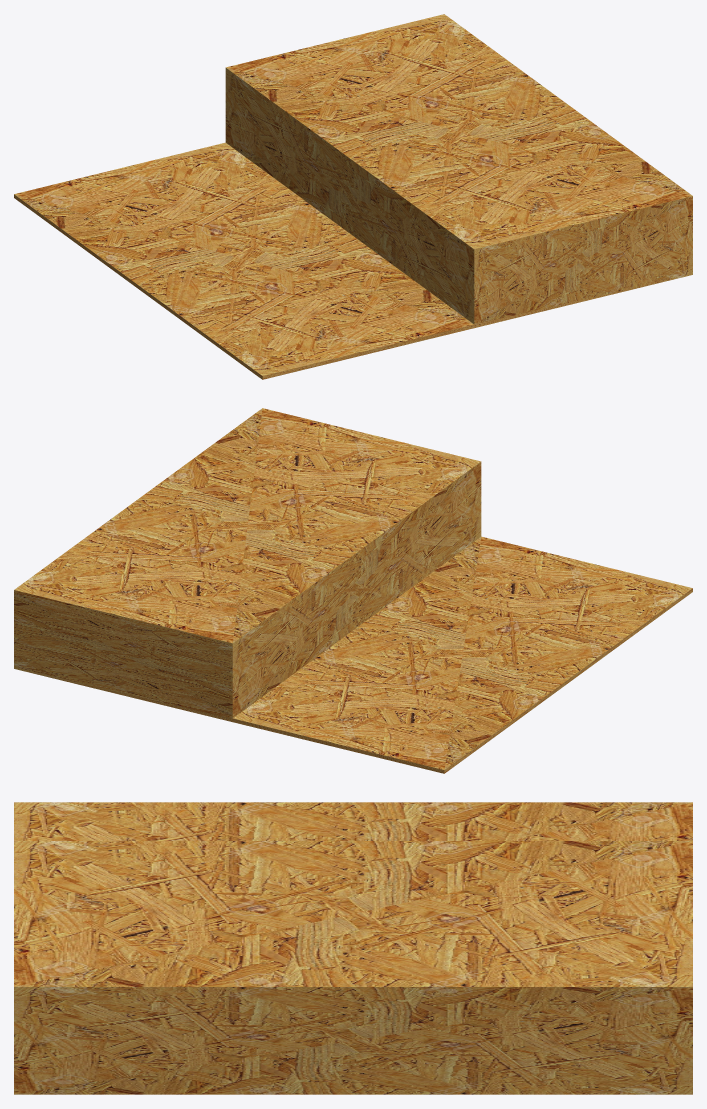
Rendered from step20.dae.
3 views of the same model, one above another, from view 1: azimuth 30°, elevation 25°; view 2: azimuth 150°, elevation 25°; view 3: azimuth 270°, elevation 25° (orthographic). The views are drawn at different scales.
Visible parts, largest first — view 1: Step20; view 2: Step20; view 3: Step20.
Part boxes in pixels (left/top/right/bottom): Step20: left=14, top=14, right=692, bottom=379; Step20: left=14, top=408, right=692, bottom=773; Step20: left=14, top=802, right=692, bottom=1094.
Bounding box in the file's own units: 1.2 × 1.2 × 0.21.
1 material, 1 textured.
